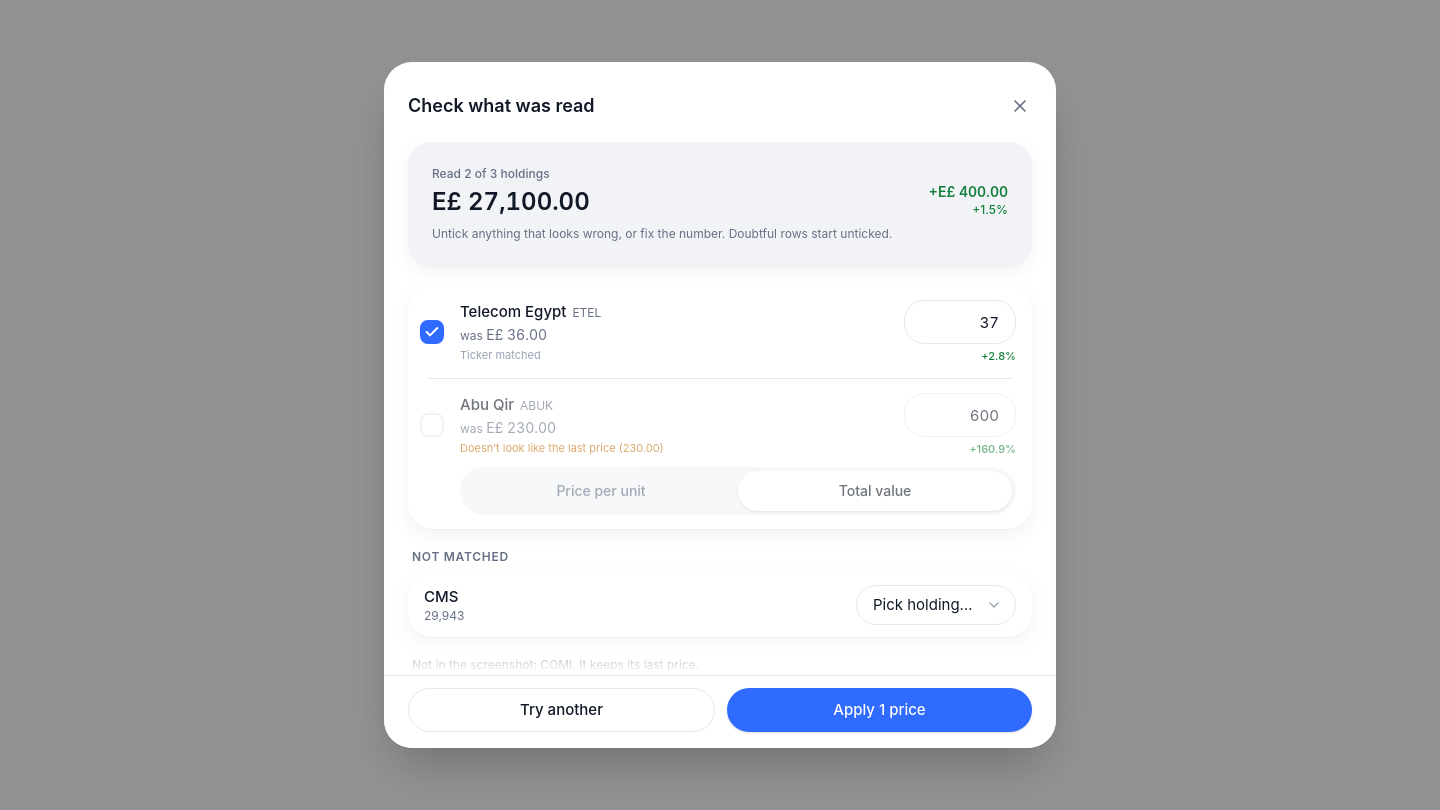
Scenario: checking what a scan read › a bad number blocks Apply until it is fixed or unticked
This screenshot has width=1440, height=810.
Replace the text in the field named "New price for Telecom Egypt" with "3x". click: (960, 322)
box: 904,300 -> 1016,344
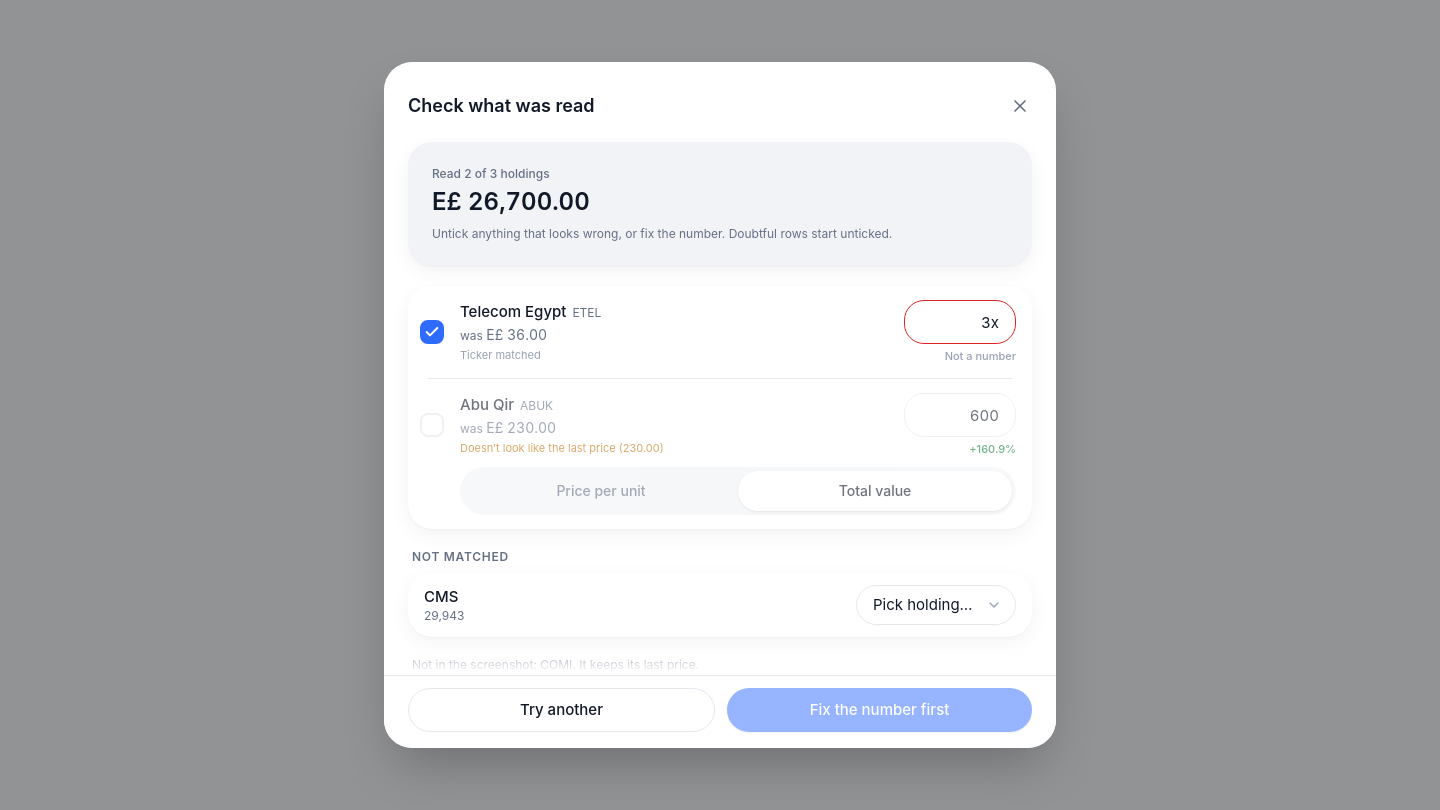
Now the button "Fix the number first" is disabled, box 727,688 -> 1032,732
Click the checkbox named "Use the price read for Telecom Egypt". click: (434, 332)
box: 420,310 -> 448,354
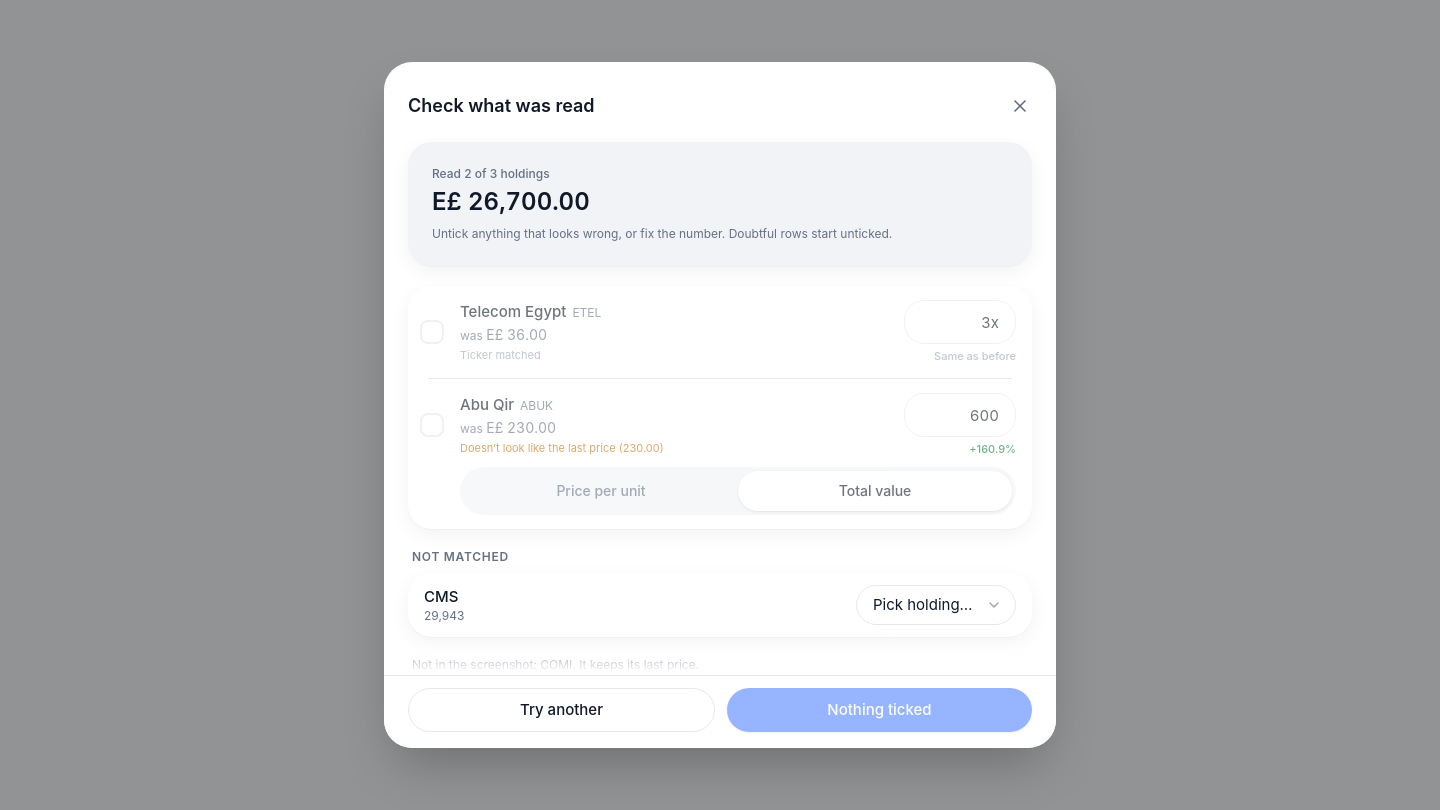
Now the button "Nothing ticked" is shown, box 727,688 -> 1032,732
